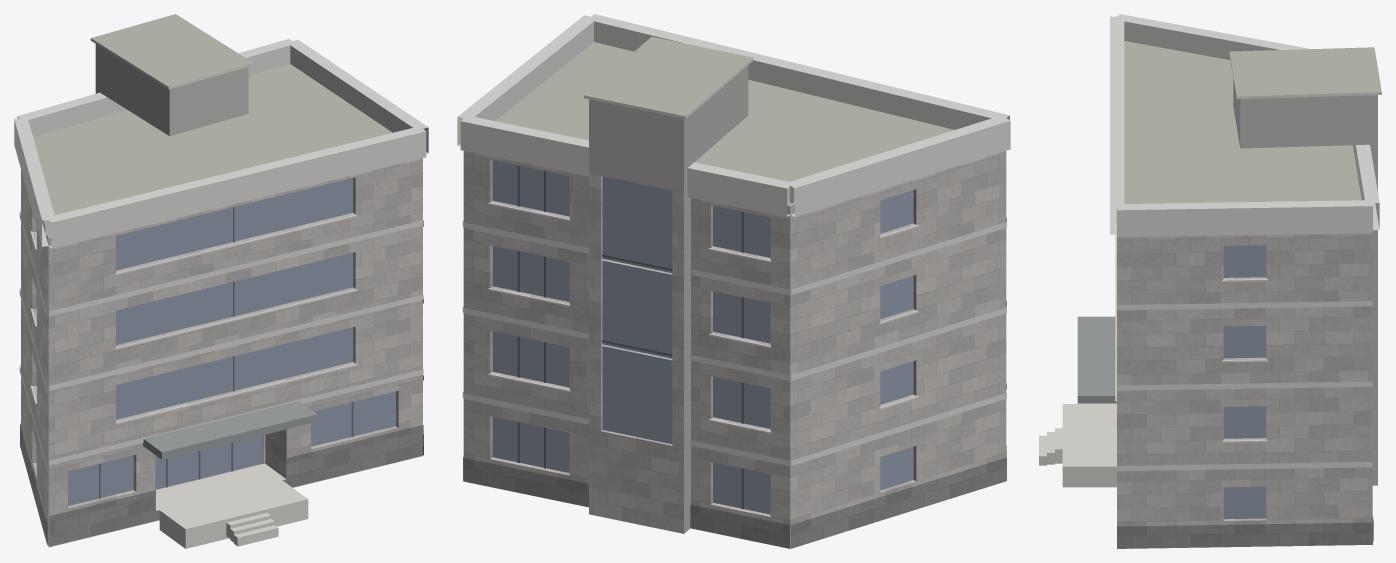
3 views of the same model, side by side, from view 1: azimuth 30°, elevation 25°; view 2: azimuth 150°, elevation 25°; view 3: azimuth 270°, elevation 25° (orthographic). The views are drawn at different scales.
Visible parts, largest first — view 1: b21_annex__wall, b21_annex__glass, b21_annex__trim, b21_annex__roof, b21_annex__entranceStair, b21_annex__base, b21_annex__wall2, b21_annex__canopy, b21_annex__frame; view 2: b21_annex__wall, b21_annex__glass, b21_annex__trim, b21_annex__roof, b21_annex__wall2, b21_annex__base, b21_annex__frame; view 3: b21_annex__wall, b21_annex__roof, b21_annex__trim, b21_annex__wall2, b21_annex__base, b21_annex__glass, b21_annex__entranceStair, b21_annex__canopy.
Part boxes in pixels (x1,y1,x2,y2): b21_annex__wall: (21, 158, 422, 545); b21_annex__glass: (36, 178, 395, 505); b21_annex__trim: (14, 38, 428, 471); b21_annex__roof: (33, 14, 422, 547); b21_annex__entranceStair: (156, 464, 308, 548); b21_annex__base: (20, 423, 423, 546); b21_annex__wall2: (95, 44, 248, 136); b21_annex__canopy: (143, 401, 317, 459); b21_annex__frame: (99, 207, 353, 498); b21_annex__wall: (463, 151, 1006, 548); b21_annex__glass: (492, 160, 913, 514); b21_annex__trim: (457, 14, 1010, 466); b21_annex__roof: (495, 36, 953, 548); b21_annex__wall2: (589, 65, 748, 533); b21_annex__base: (463, 446, 1006, 548); b21_annex__frame: (517, 165, 743, 509); b21_annex__wall: (1117, 227, 1372, 526); b21_annex__roof: (1117, 41, 1381, 548); b21_annex__trim: (1110, 14, 1381, 471); b21_annex__wall2: (1233, 79, 1377, 485); b21_annex__base: (1117, 516, 1373, 548); b21_annex__glass: (1223, 245, 1265, 519); b21_annex__entranceStair: (1039, 404, 1116, 487); b21_annex__canopy: (1077, 316, 1116, 403).
Size of the model in its own units: 18.84 by 18.13 by 13.9.
10 materials, 2 textured.
